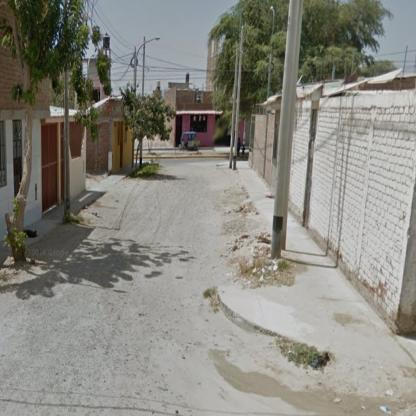Pista: (1, 155, 415, 415)
Vehiculo: (180, 131, 199, 152)
